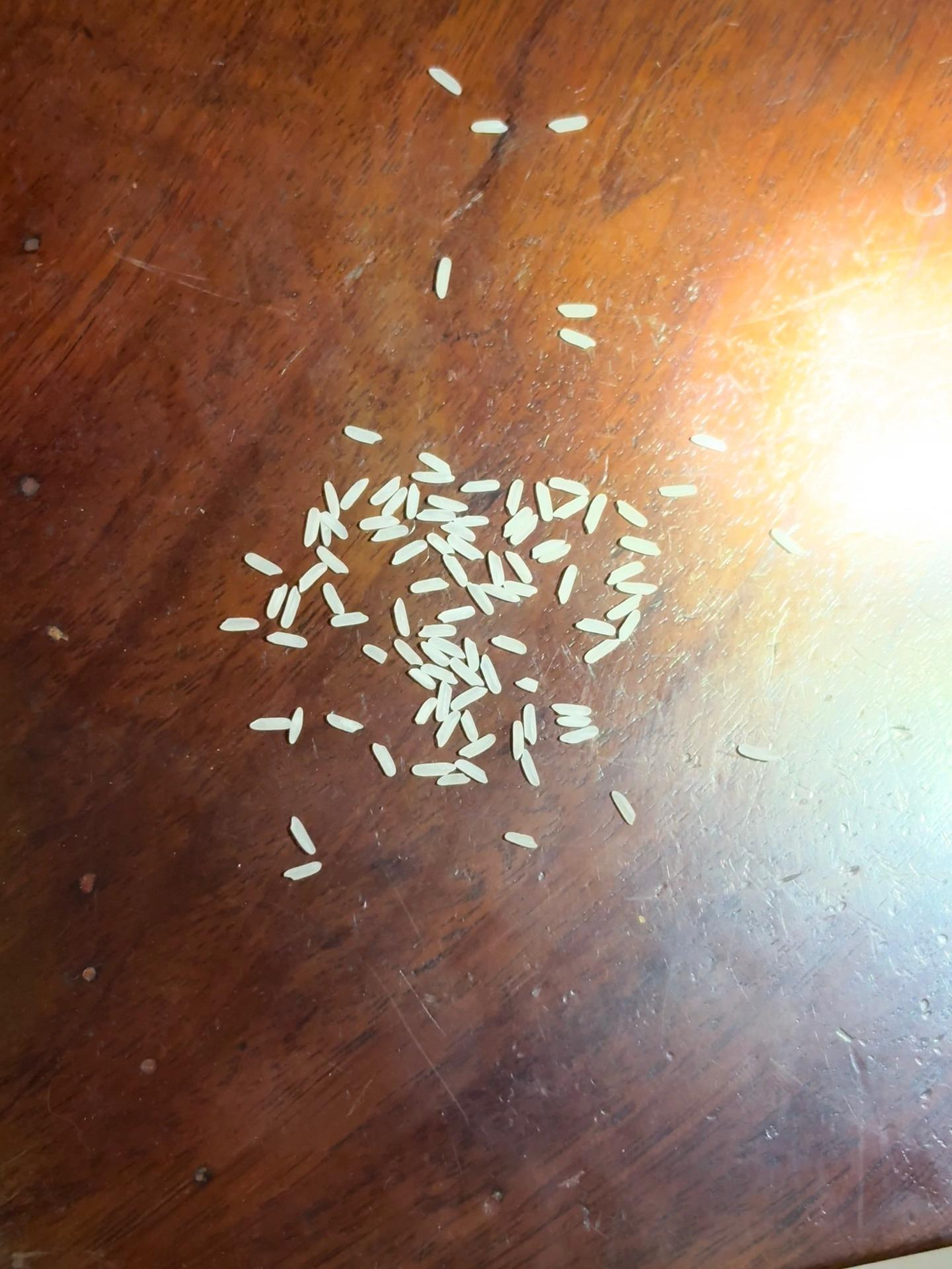Rice-th-y-nh: (770, 527, 808, 558), (449, 657, 485, 688), (427, 66, 463, 96), (502, 506, 534, 538), (504, 550, 534, 584), (290, 816, 316, 855), (506, 719, 530, 761), (447, 534, 484, 561), (584, 637, 621, 664), (297, 561, 328, 593), (369, 476, 402, 506), (316, 545, 349, 575), (432, 681, 456, 722), (606, 594, 642, 621), (435, 710, 461, 747), (451, 685, 488, 711), (340, 478, 370, 510), (467, 582, 495, 616), (419, 451, 454, 478), (479, 654, 502, 695), (391, 539, 427, 565), (611, 789, 637, 825), (419, 662, 458, 686), (584, 494, 608, 533), (556, 565, 580, 604), (459, 734, 496, 759), (549, 475, 589, 498), (442, 553, 469, 587), (606, 561, 644, 585), (482, 581, 520, 605), (534, 481, 556, 522), (509, 515, 539, 545), (244, 553, 283, 576), (616, 500, 648, 528), (455, 758, 489, 784), (426, 637, 466, 659), (412, 759, 456, 779), (281, 587, 302, 628), (372, 743, 397, 777), (394, 638, 423, 667), (619, 536, 661, 556), (554, 495, 589, 519), (302, 507, 323, 547), (548, 114, 588, 135), (381, 487, 408, 518), (561, 724, 599, 746), (267, 630, 308, 650), (321, 511, 349, 540), (420, 642, 451, 668), (359, 513, 399, 533), (520, 704, 540, 744), (560, 327, 596, 349), (577, 617, 616, 637), (434, 257, 453, 298), (519, 750, 540, 787), (471, 116, 508, 137), (266, 584, 288, 619), (618, 610, 642, 642), (486, 551, 507, 587), (491, 634, 527, 655), (691, 432, 727, 453), (536, 543, 572, 564), (428, 494, 467, 513), (322, 583, 345, 615), (503, 577, 538, 598), (443, 521, 476, 543), (344, 425, 382, 444), (371, 524, 409, 543), (416, 506, 456, 524), (285, 861, 322, 880), (505, 480, 525, 515), (551, 701, 592, 718), (616, 580, 657, 597), (327, 714, 363, 733), (323, 481, 341, 519), (393, 598, 411, 636), (287, 708, 306, 744), (439, 605, 475, 624), (414, 697, 438, 725), (461, 478, 500, 495), (460, 710, 480, 743), (250, 716, 291, 732), (556, 712, 592, 730), (462, 637, 481, 671), (410, 577, 448, 594), (408, 668, 437, 690), (412, 470, 454, 485), (419, 622, 456, 639), (220, 616, 259, 632), (427, 533, 455, 555), (405, 483, 422, 519), (330, 611, 368, 627), (558, 303, 596, 319), (505, 831, 538, 849), (450, 514, 489, 529), (437, 772, 470, 788), (363, 643, 388, 664), (660, 484, 697, 497), (319, 518, 333, 547), (516, 677, 539, 693)
